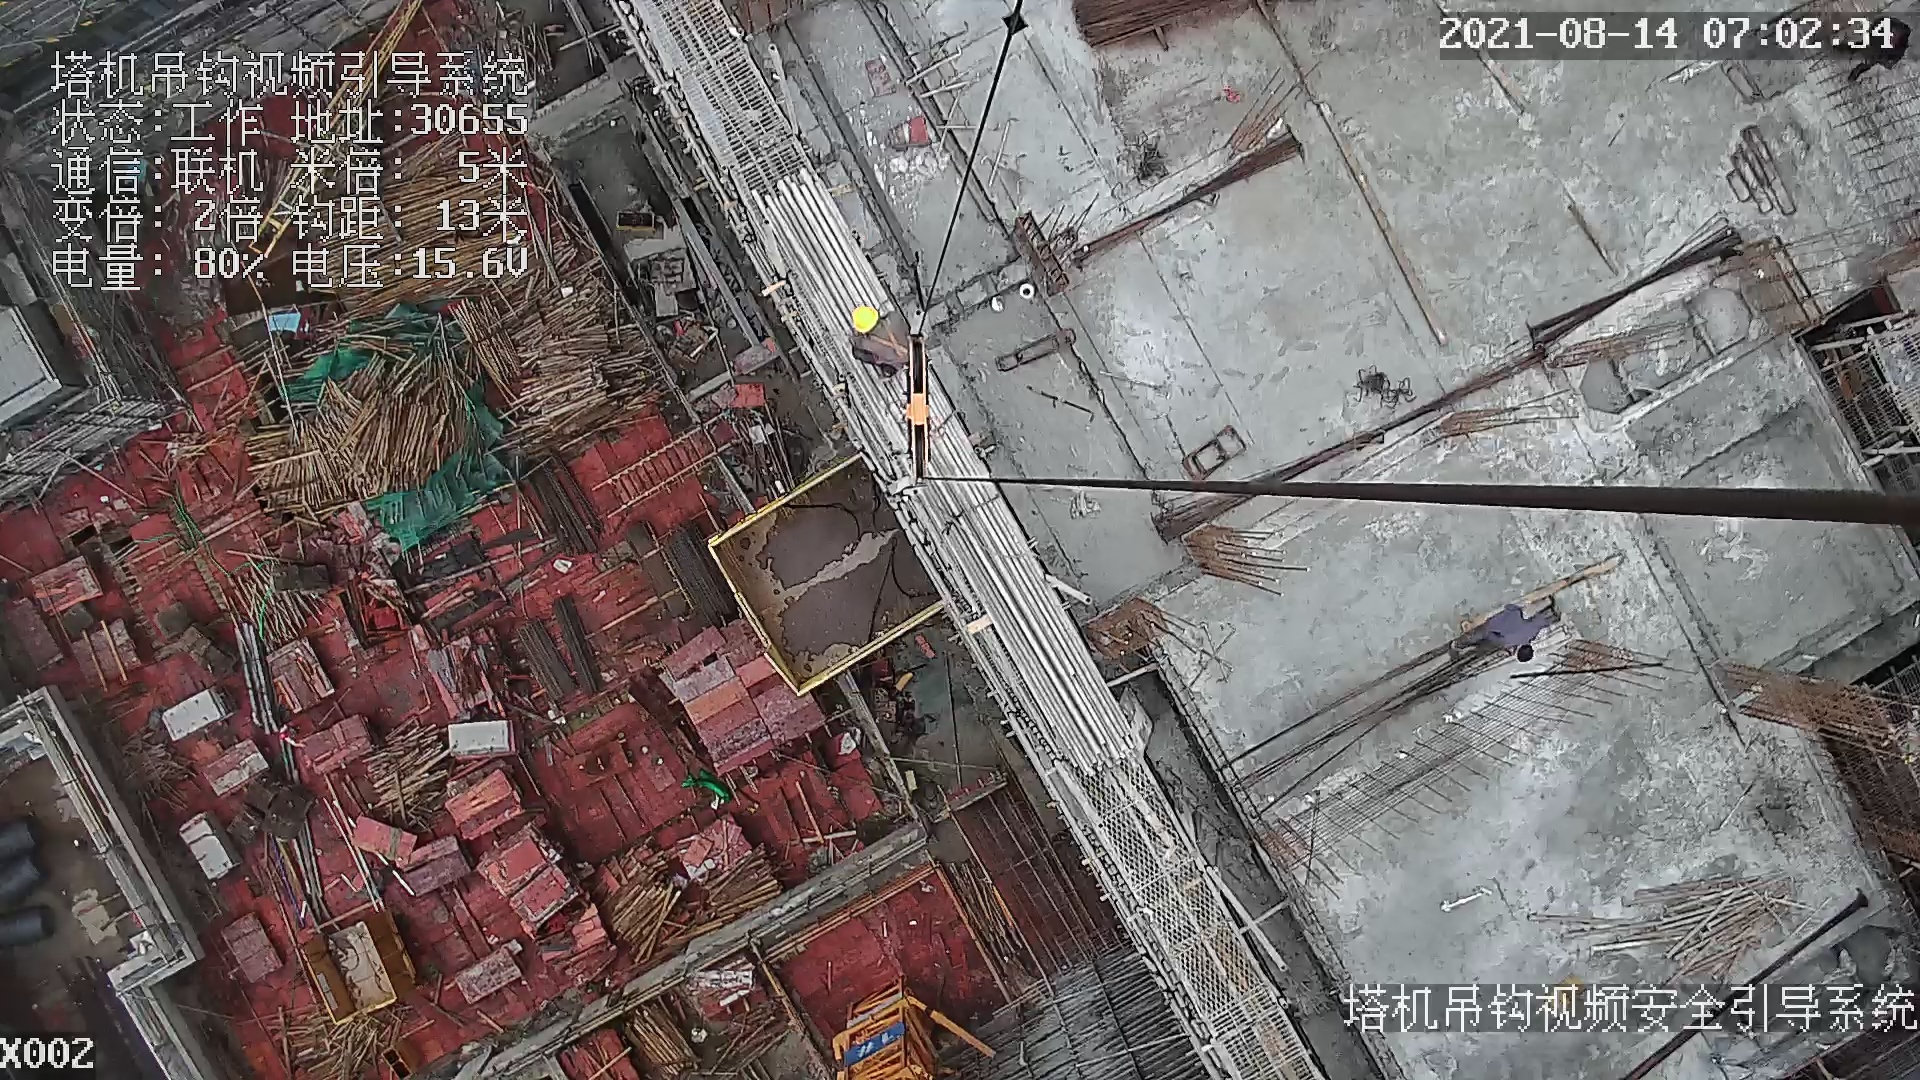helmet: (853, 303, 882, 334)
hook: (890, 337, 938, 499)
person: (1447, 599, 1553, 660), (854, 304, 915, 371)
slogan: (848, 1021, 903, 1065)
